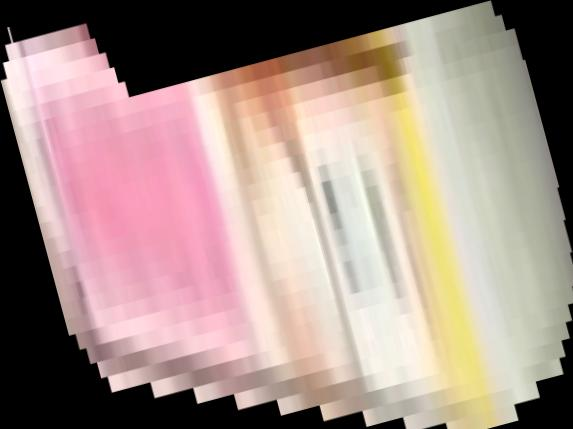flat: (1, 1, 573, 429)
